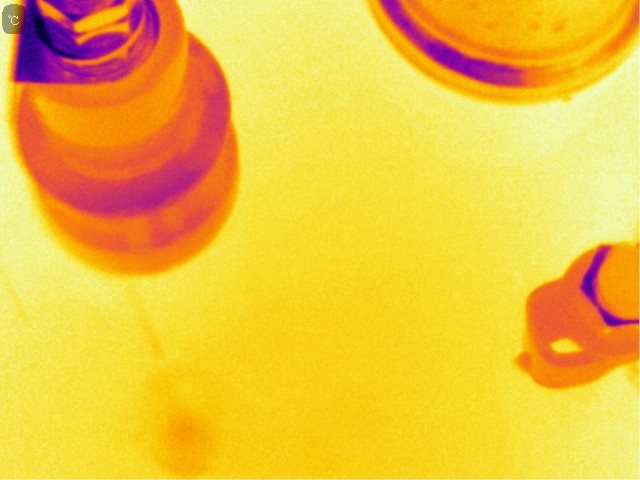Oil: (140, 379, 214, 480)
